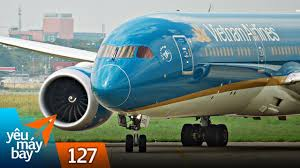maybay_dansu: (8, 8, 300, 146)
